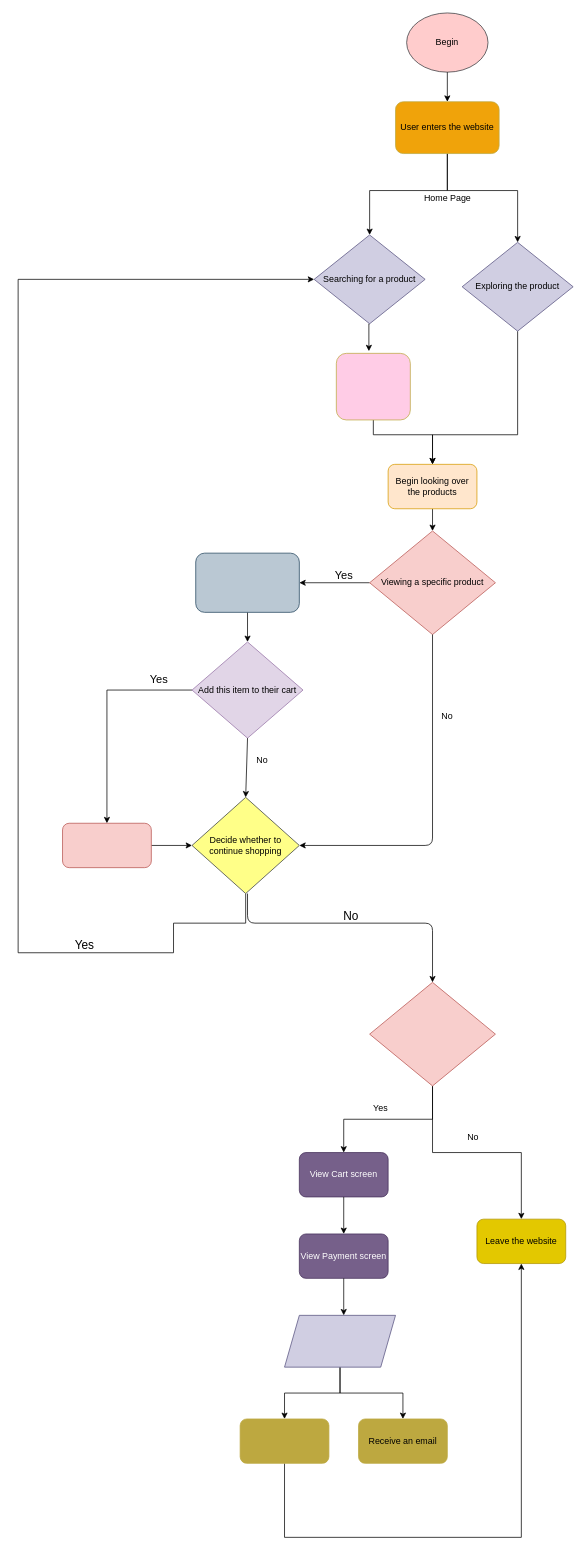
The diagram is 586 pixels wide and 1556 high, and some of its shapes have lost their labels. The shapes that lost their labels are listed below. From the top down, each one's centre as x and y in pixels, then its label:
At (x=373, y=386): "Provide input to the website fo their search".
At (x=247, y=582): "The product's webpage will open".
At (x=106, y=845): "Receive an added to cart confirmation".
At (x=432, y=1034): "Checkout".
At (x=340, y=1341): "Input of their payment information".
At (x=284, y=1440): "see an order confirmation screen".
